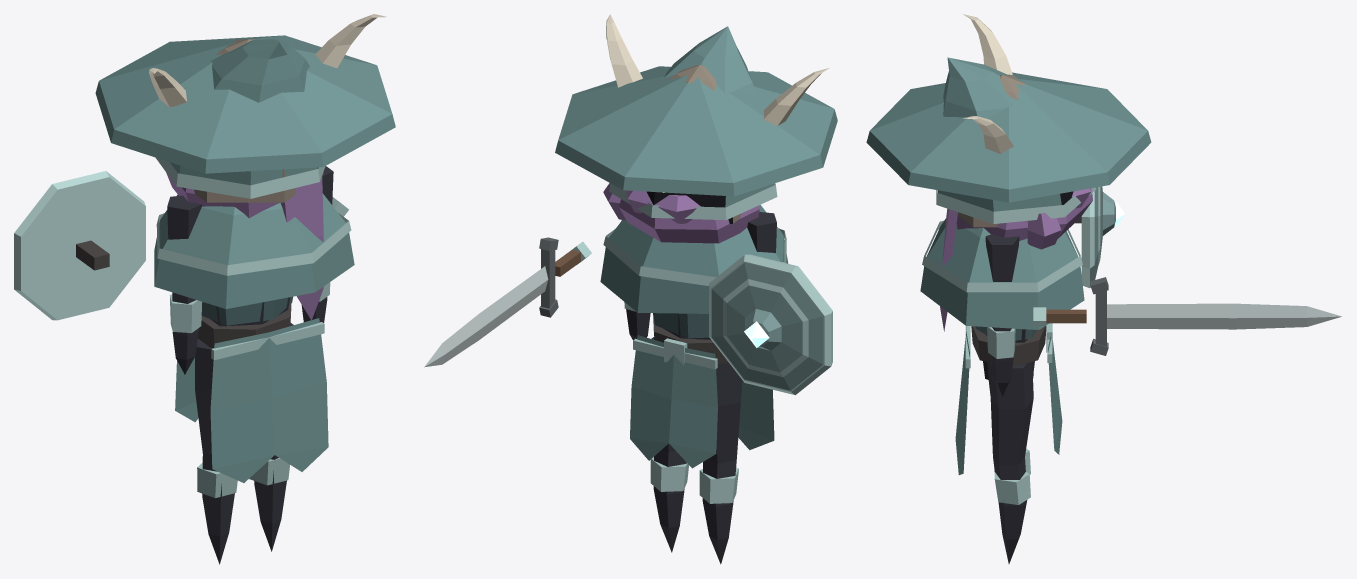
File: shade_parts.glb
3 renders of one model, left to right at view 1: azimuth 30°, elevation 25°; view 2: azimuth 150°, elevation 25°; view 3: azimuth 270°, elevation 25°, orthographic. The views are drawn at different scales.
Visible parts, largest first — view 1: WideHat, TabardBack, Mantle, Shield, Hood, HornedHelm, ShinL, ShinR, ScarfTail, ForearmL, Torso, ThighL (+4 smaller); view 2: WideHat, Shield, Mantle, TabardFront, Hood, Sword, Scarf, HornedHelm, ShinL, ShinR, ThighL, TabardBack (+4 smaller); view 3: WideHat, Mantle, Sword, Hood, ThighR, HornedHelm, ShinR, Shield, Scarf, Pelvis, ForearmR, UpperArmR (+3 smaller).
Boxes of the visible parts, x1,y1,x2,y2 form: WideHat: [95, 35, 395, 173]; TabardBack: [210, 318, 328, 482]; Mantle: [154, 193, 354, 308]; Shield: [14, 171, 145, 320]; Hood: [156, 39, 325, 198]; HornedHelm: [149, 14, 386, 202]; ShinL: [197, 454, 237, 564]; ShinR: [249, 455, 289, 551]; ScarfTail: [280, 176, 323, 320]; ForearmL: [170, 292, 202, 374]; Torso: [201, 296, 292, 326]; ThighL: [195, 339, 213, 455]; WideHat: [555, 66, 837, 196]; Shield: [709, 254, 832, 395]; Mantle: [600, 205, 788, 313]; TabardFront: [630, 335, 717, 468]; Hood: [609, 26, 777, 220]; Sword: [424, 237, 591, 367]; Scarf: [603, 183, 759, 243]; HornedHelm: [606, 14, 829, 223]; ShinL: [699, 459, 738, 564]; ShinR: [650, 449, 688, 552]; ThighL: [708, 362, 742, 463]; TabardBack: [738, 380, 774, 450]; WideHat: [866, 72, 1151, 202]; Mantle: [920, 218, 1084, 329]; Sword: [1033, 277, 1341, 355]; Hood: [936, 57, 1096, 223]; ThighR: [987, 362, 1033, 465]; HornedHelm: [938, 14, 1028, 227]; ShinR: [993, 457, 1030, 563]; Shield: [1075, 186, 1125, 288]; Scarf: [956, 188, 1092, 249]; Pelvis: [971, 323, 1052, 379]; ForearmR: [987, 327, 1015, 396]; UpperArmR: [985, 234, 1019, 281].
Size of the model in its own units: 1.05 by 1.69 by 1.47.
